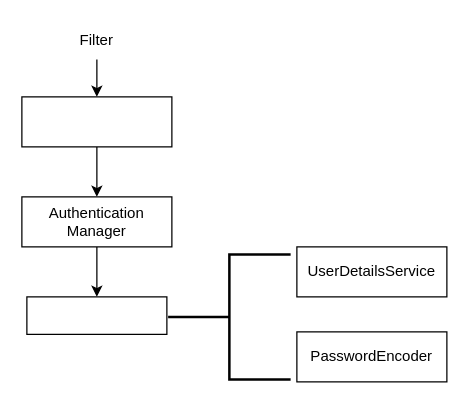
The diagram is 469 pixels wide and 404 high, and some of its shapes have lost their labels. The shapes that lost their labels are listed below. From the top down, each one's centre as x and y in pixels, then its label:
(x=96, y=121): HTTPBasic Authentication
(x=96, y=315): Authentication Provider
